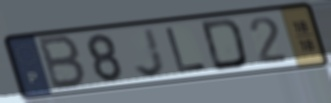2: (248, 15, 289, 65)
8: (85, 33, 124, 85)
B: (37, 33, 88, 92)
D: (199, 17, 250, 73)
J: (133, 26, 169, 80)
L: (163, 26, 210, 75)
